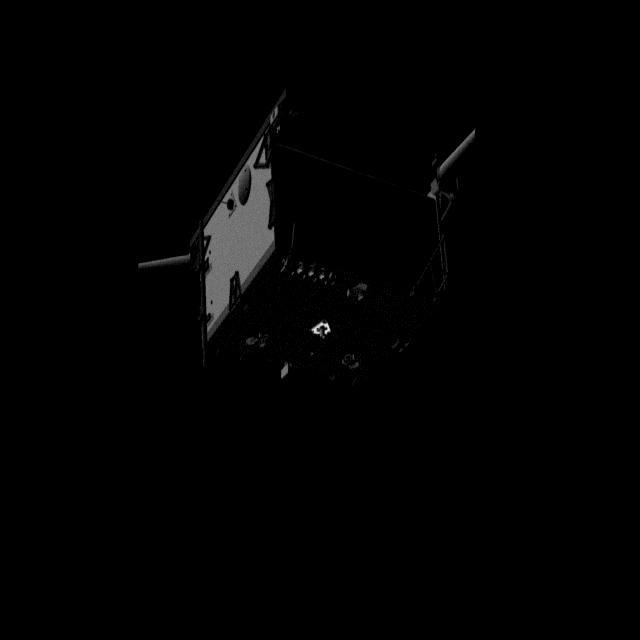satellite: (132, 86, 510, 388)
